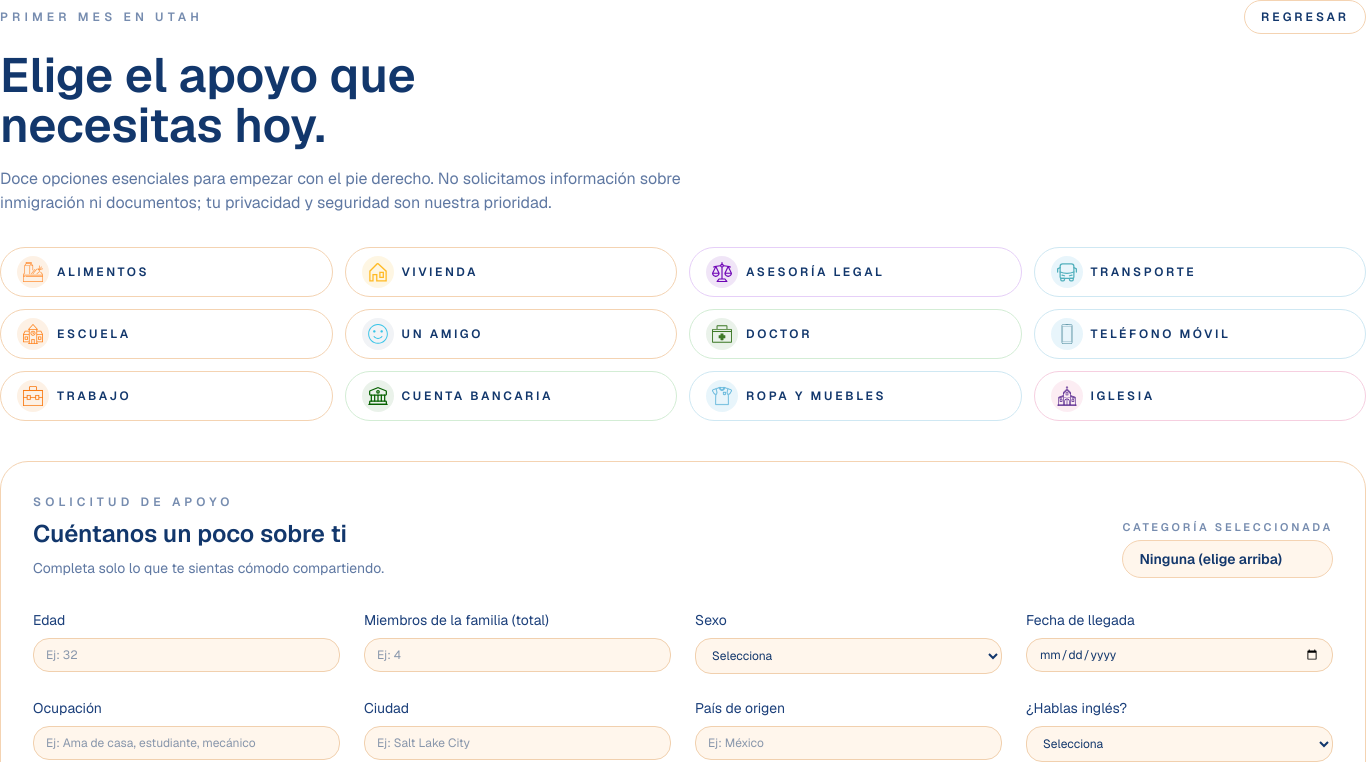
Scenario: NeedHelp page › creates family detail inputs based on count
Type "2" into the field with placeholder "Ej: 4" at point(518, 655), box x1=364 y1=638 x2=671 y2=672
(page scrolled)
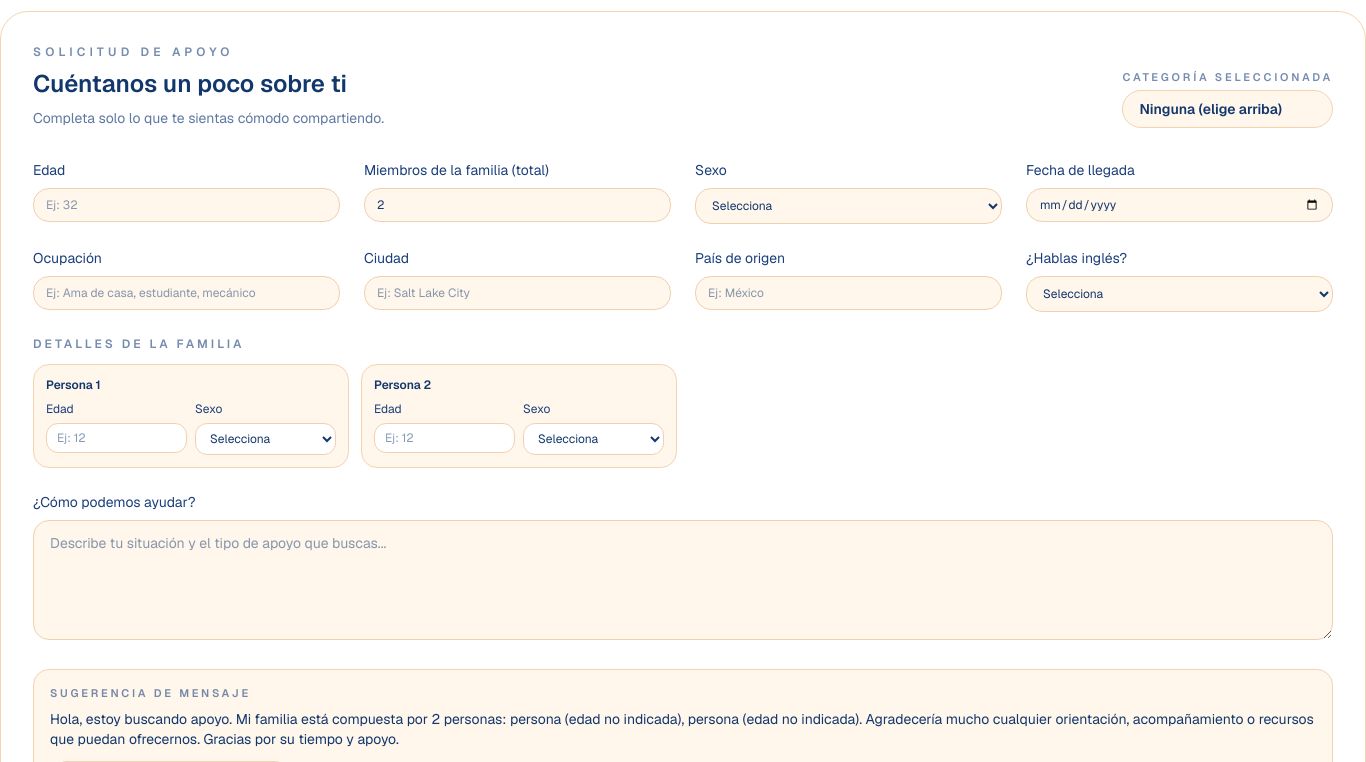
Check: the text "Persona 1" is shown, box x1=46 y1=377 x2=101 y2=393
Check: the text "Persona 2" is shown, box x1=374 y1=377 x2=431 y2=393
